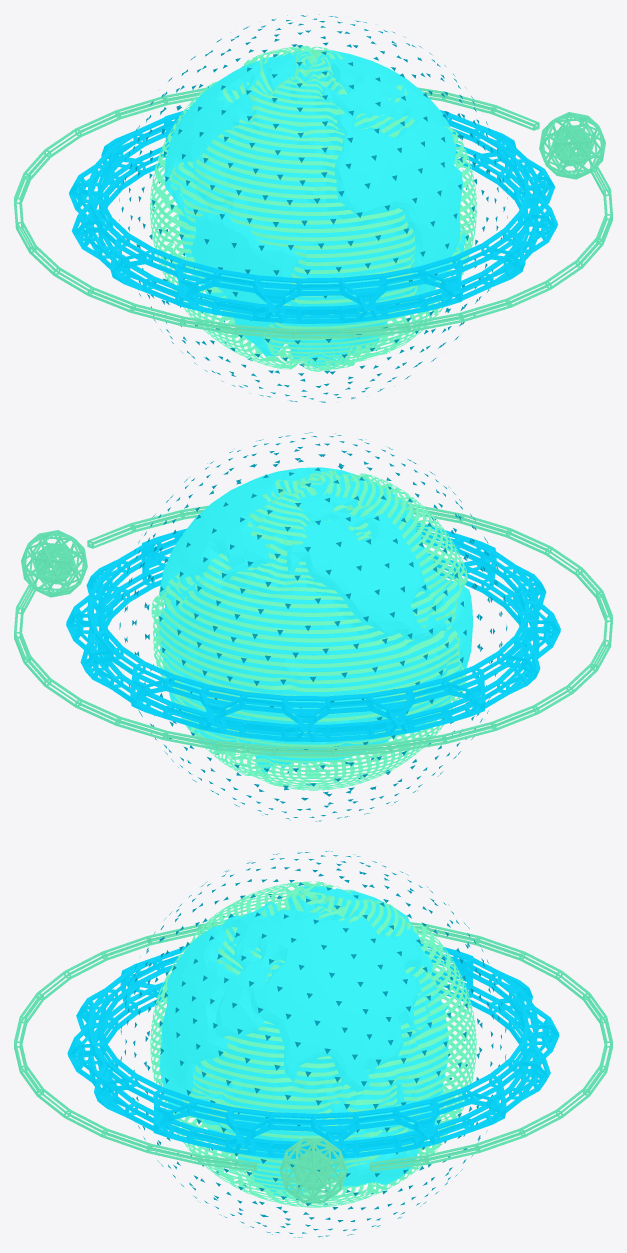
Rendered from Hologram3.glb.
The picture shows the model from 3 angles, top to bottom: view 1: azimuth 30°, elevation 25°; view 2: azimuth 150°, elevation 25°; view 3: azimuth 270°, elevation 25°; orthographic projection.
Parts seen in each view (by area): view 1: TERRE1, Circle.643, Sphere.002, Circle, Circle.455, Icosphere.002; view 2: TERRE1, Sphere.002, Circle.643, Circle, Circle.455, Icosphere.002; view 3: TERRE1, Circle.643, Sphere.002, Circle, Circle.455, Icosphere.002.
Part boxes in pixels (<box>): TERRE1: <box>164,49,465,367</box>; Circle.643: <box>68,109,558,323</box>; Sphere.002: <box>150,45,476,371</box>; Circle: <box>14,87,612,338</box>; Circle.455: <box>119,14,507,402</box>; Icosphere.002: <box>539,112,605,179</box>; TERRE1: <box>155,467,473,772</box>; Sphere.002: <box>151,469,467,790</box>; Circle.643: <box>66,523,560,741</box>; Circle: <box>14,503,612,756</box>; Circle.455: <box>119,432,507,821</box>; Icosphere.002: <box>21,530,87,597</box>; TERRE1: <box>159,886,448,1198</box>; Circle.643: <box>67,943,559,1158</box>; Sphere.002: <box>150,881,476,1207</box>; Circle: <box>14,921,612,1171</box>; Circle.455: <box>120,850,506,1238</box>; Icosphere.002: <box>279,1138,347,1203</box>.
Size of the model in its own units: 12.94 by 7.98 by 12.3.
